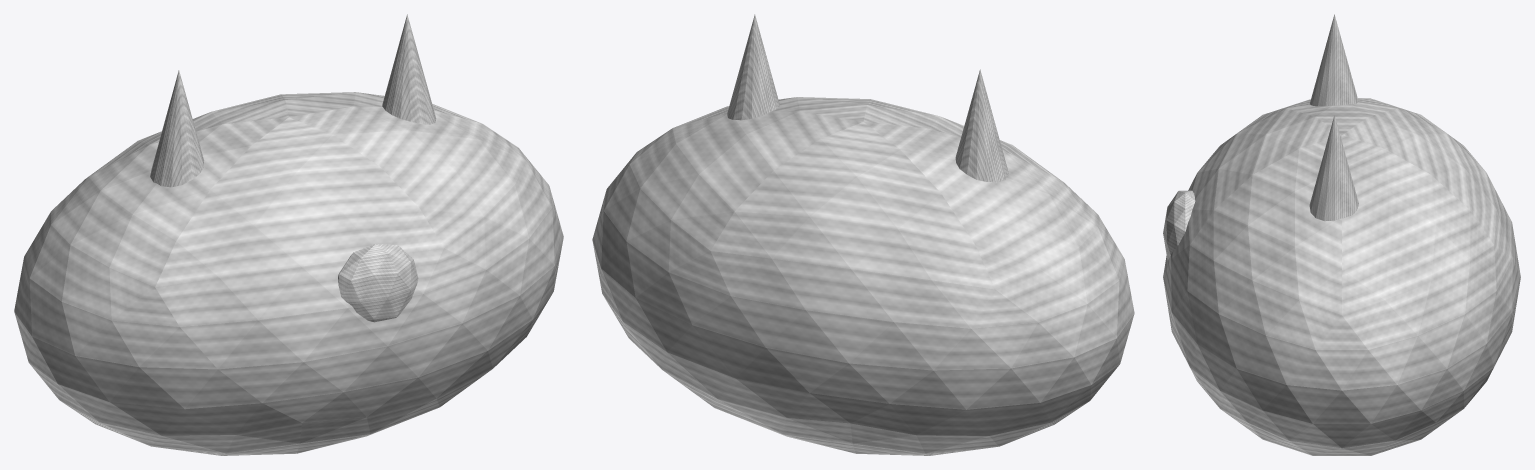
Rendered from fauna-power-slug-yellow_variant_d.glb.
The picture shows the model from 3 angles, left to right: view 1: azimuth 30°, elevation 25°; view 2: azimuth 150°, elevation 25°; view 3: azimuth 270°, elevation 25°; orthographic projection. The views are drawn at different scales.
Parts seen in each view (by area): view 1: Soft creature body.003, Creature eye, Sensory stalk.006, Sensory stalk.007; view 2: Soft creature body.003, Sensory stalk.006, Sensory stalk.007; view 3: Soft creature body.003, Sensory stalk.007, Sensory stalk.006, Creature eye.
Boxes of the visible parts, bbox=[...] form: Soft creature body.003: bbox=[14, 92, 563, 455]; Creature eye: bbox=[338, 244, 418, 322]; Sensory stalk.006: bbox=[150, 70, 204, 187]; Sensory stalk.007: bbox=[382, 14, 436, 124]; Soft creature body.003: bbox=[592, 97, 1134, 455]; Sensory stalk.006: bbox=[955, 69, 1008, 182]; Sensory stalk.007: bbox=[727, 14, 779, 120]; Soft creature body.003: bbox=[1163, 98, 1520, 455]; Sensory stalk.007: bbox=[1309, 115, 1358, 221]; Sensory stalk.006: bbox=[1310, 14, 1358, 106]; Creature eye: bbox=[1163, 190, 1195, 259].
Size of what is drawn, in the model's own units: 1.44 by 1.05 by 0.96.
3 materials, 3 textured.
